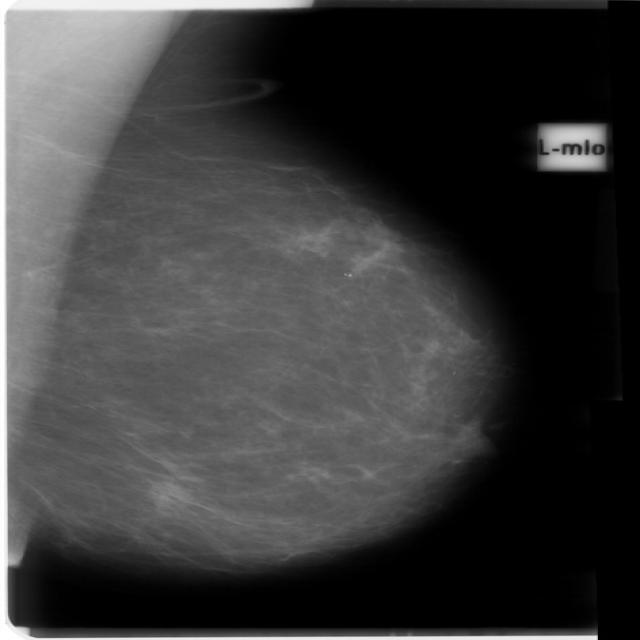tumour: (286, 227, 335, 256)
